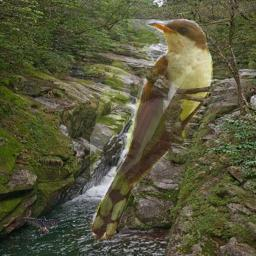Cuckoo: (90, 19, 213, 243)
Swallow: (22, 216, 61, 235)
